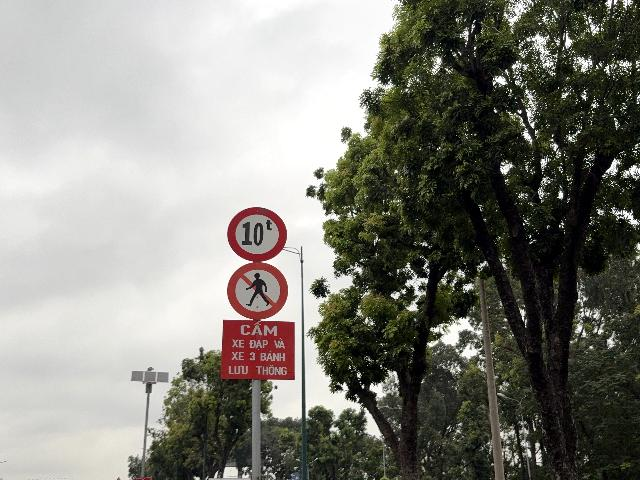cam-nguoi-di-bo: (227, 261, 288, 320)
han-che-trong-luong-xe: (227, 207, 287, 262)
